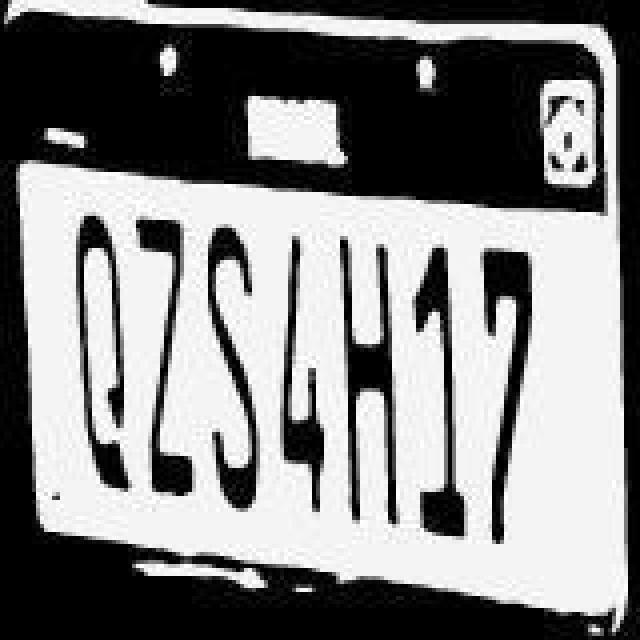1: (412, 246, 468, 538)
4: (280, 234, 328, 518)
7: (478, 248, 530, 544)
H: (338, 234, 398, 526)
Q: (76, 212, 132, 492)
S: (206, 224, 258, 512)
Z: (134, 216, 194, 496)
